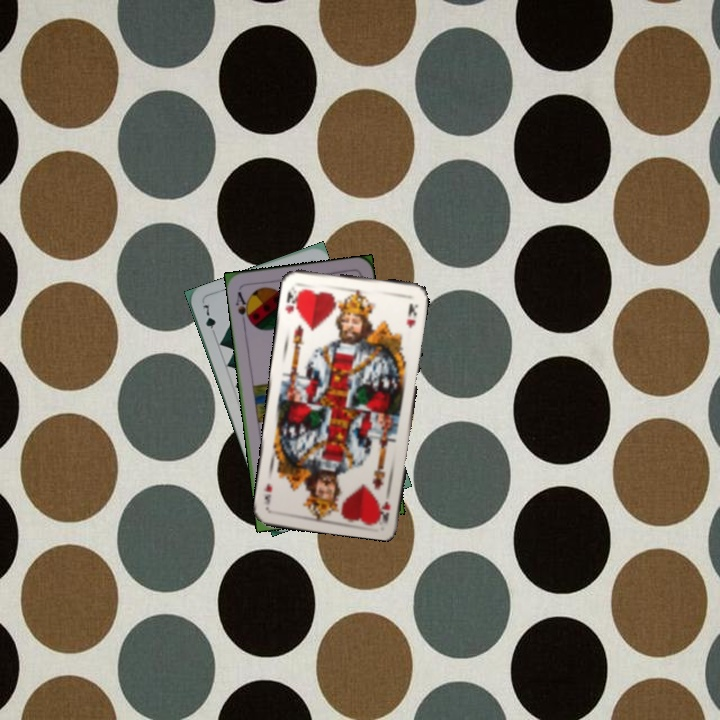G7: (199, 299, 219, 339)
HK: (281, 285, 303, 318), (377, 497, 393, 524)
SA: (231, 288, 254, 327)
